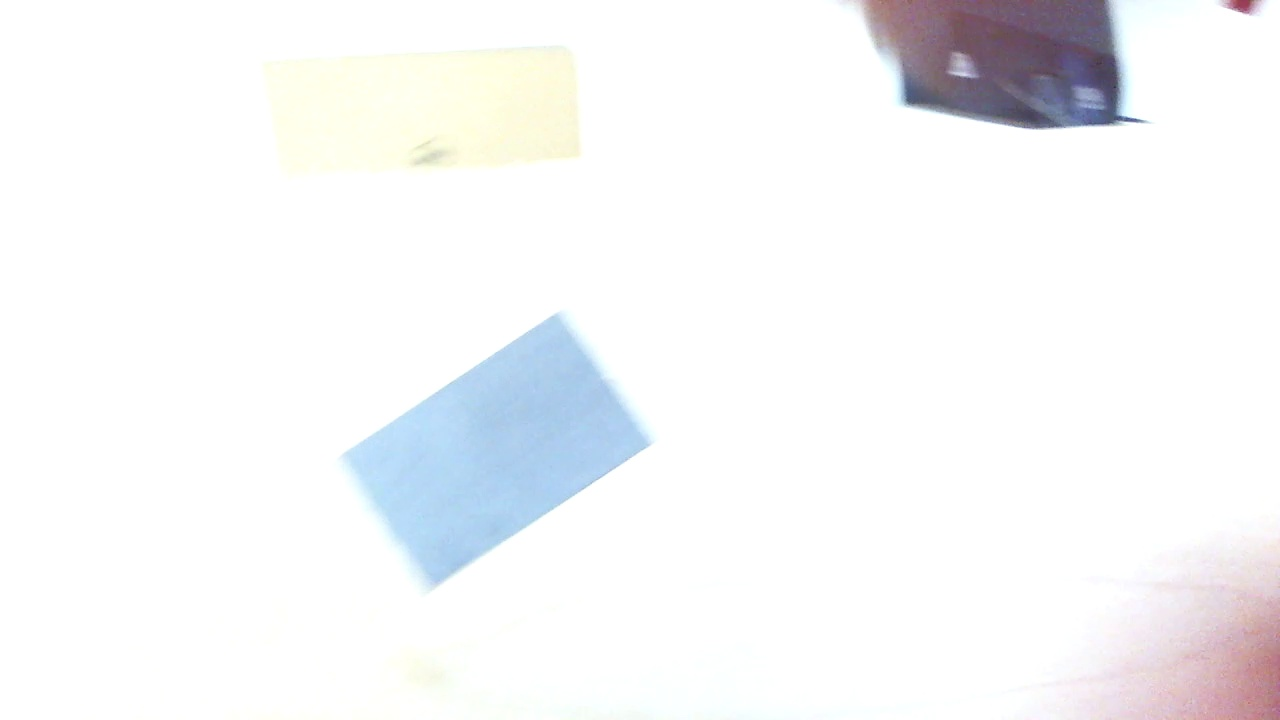Tape: (343, 317, 650, 592)
